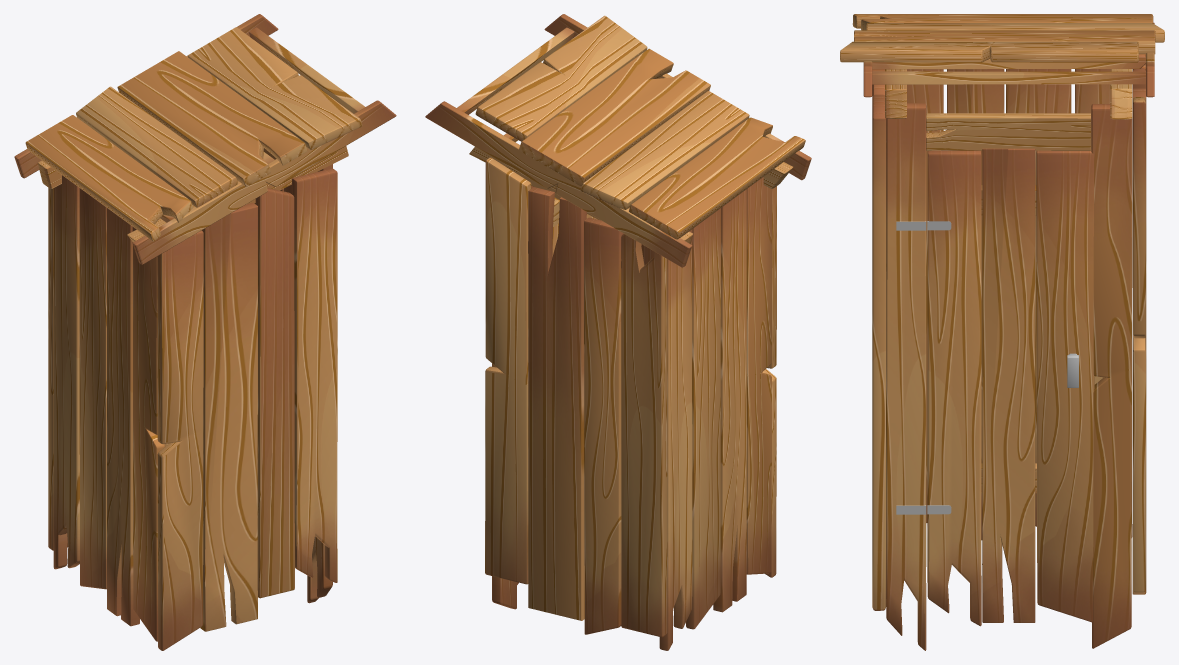
Rendered from OutHouse.fbx.
3 renders of one model, left to right at view 1: azimuth 30°, elevation 25°; view 2: azimuth 150°, elevation 25°; view 3: azimuth 270°, elevation 25°, orthographic. The views are drawn at different scales.
Visible parts, largest first — view 1: Cube.044, Cube.057; view 2: Cube.044, Cube.057; view 3: Cube.062, Cube.044, Cube.057, Cube.049.
Part boxes in pixels (x1,y1,x2,y2): Cube.044: (48,164,337,650); Cube.057: (14,14,396,264); Cube.044: (485,157,776,650); Cube.057: (425,14,811,267); Cube.062: (927,148,1094,626); Cube.044: (872,54,1146,650); Cube.057: (840,14,1164,119); Cube.049: (926,113,1090,150).
Bounding box in the file's own units: 265 × 492 × 238.
